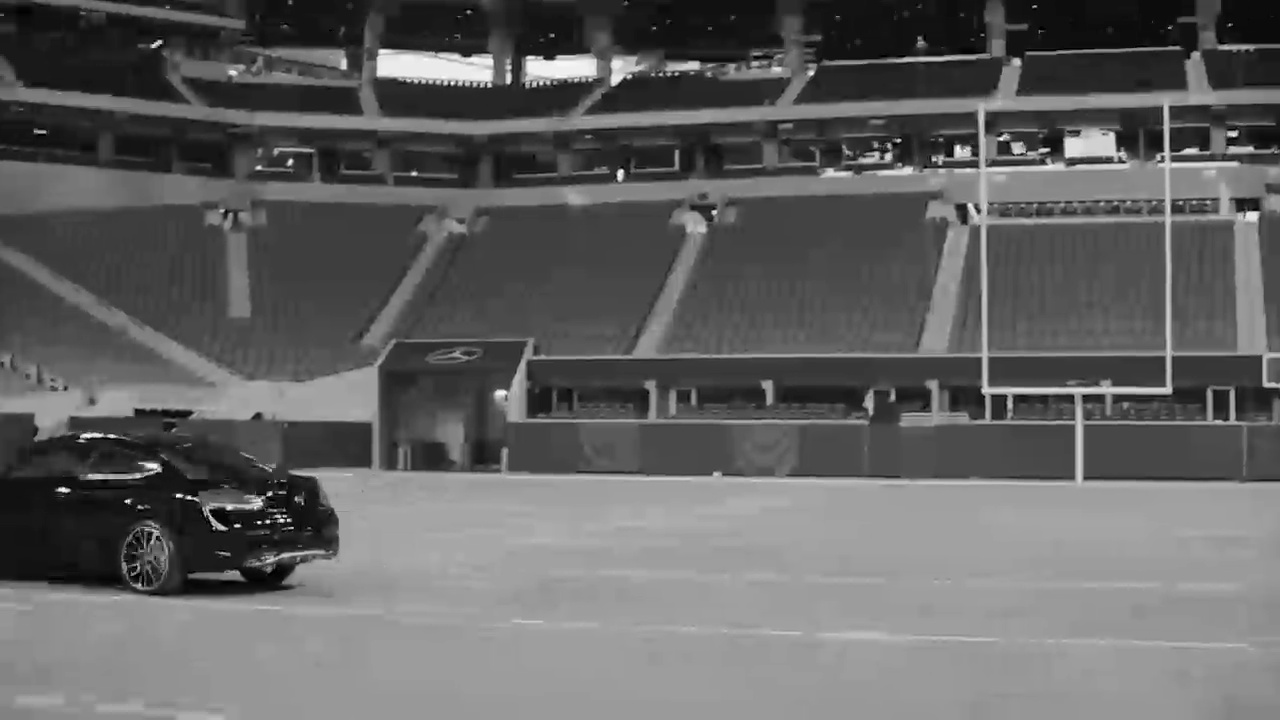car: (1, 431, 351, 603)
